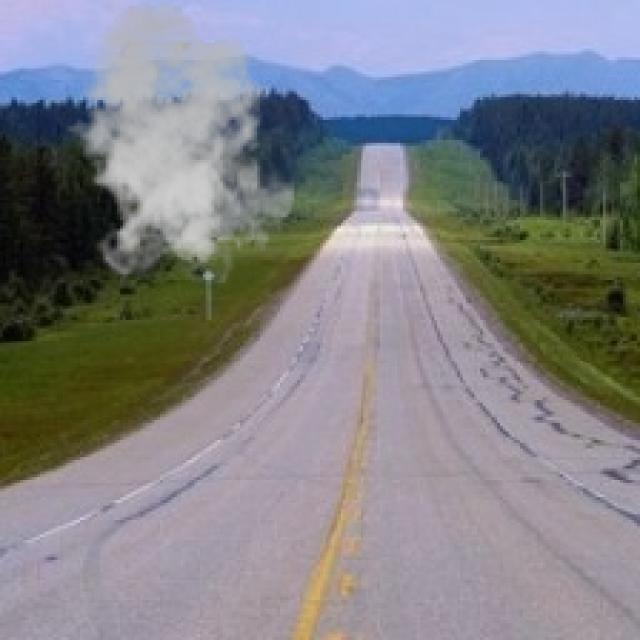smoke: (57, 0, 294, 283)
